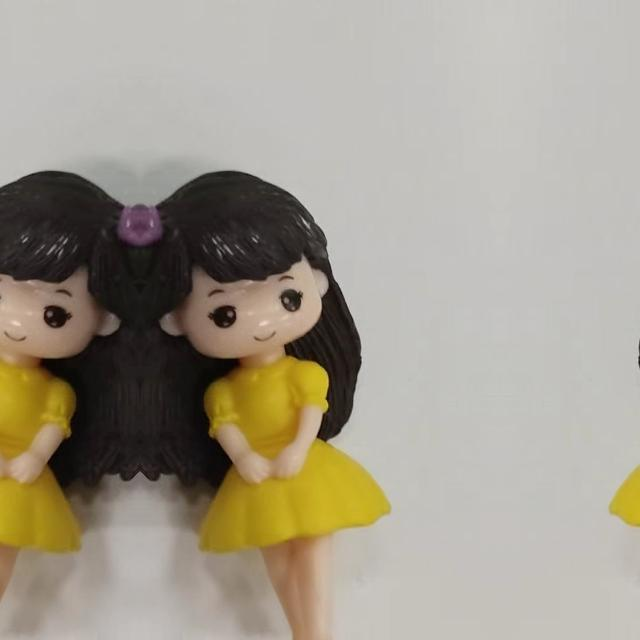woman dress: (187, 338, 385, 640), (0, 338, 93, 640), (615, 338, 640, 640)
woman head: (144, 159, 356, 367), (0, 159, 136, 367)
